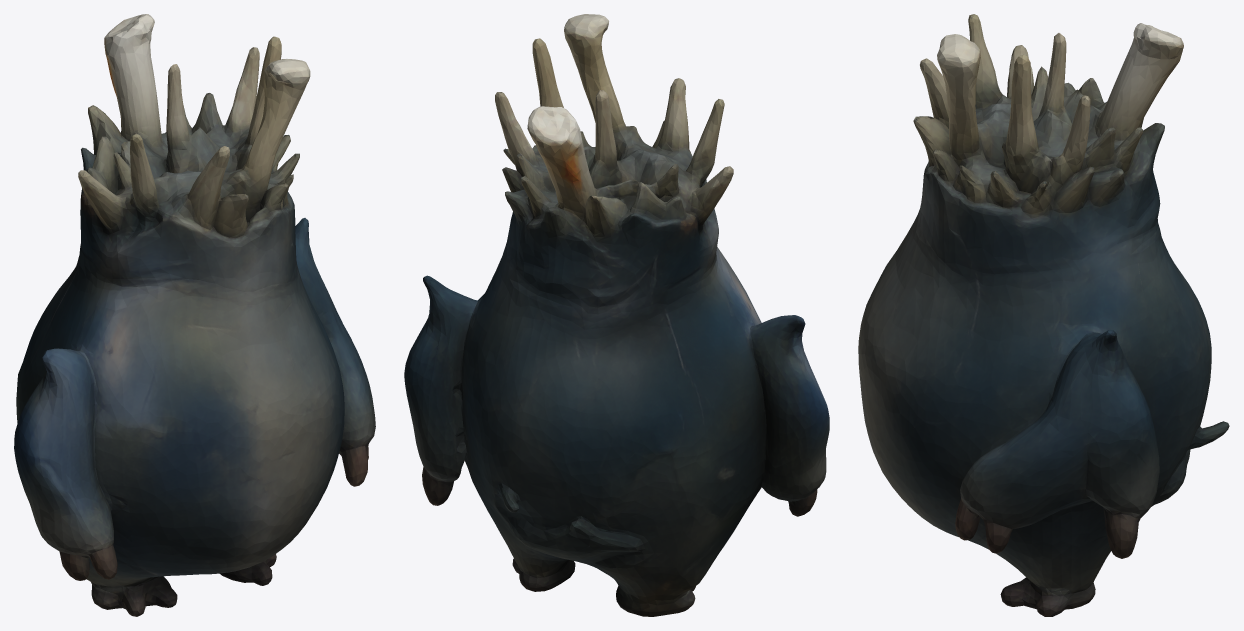
File: bursar-popped.glb
The picture shows the model from 3 angles, left to right: view 1: azimuth 30°, elevation 25°; view 2: azimuth 150°, elevation 25°; view 3: azimuth 270°, elevation 25°; orthographic projection. The views are drawn at different scales.
Parts seen in each view (by area): view 1: world; view 2: world; view 3: world.
Part boxes in pixels (box(x1,y1,x2,y2)): world: box(14, 14, 375, 616); world: box(404, 14, 829, 616); world: box(858, 14, 1229, 616).
Size of the model in its own units: 0.7032 by 0.9991 by 0.5959.
1 material, 1 textured.
